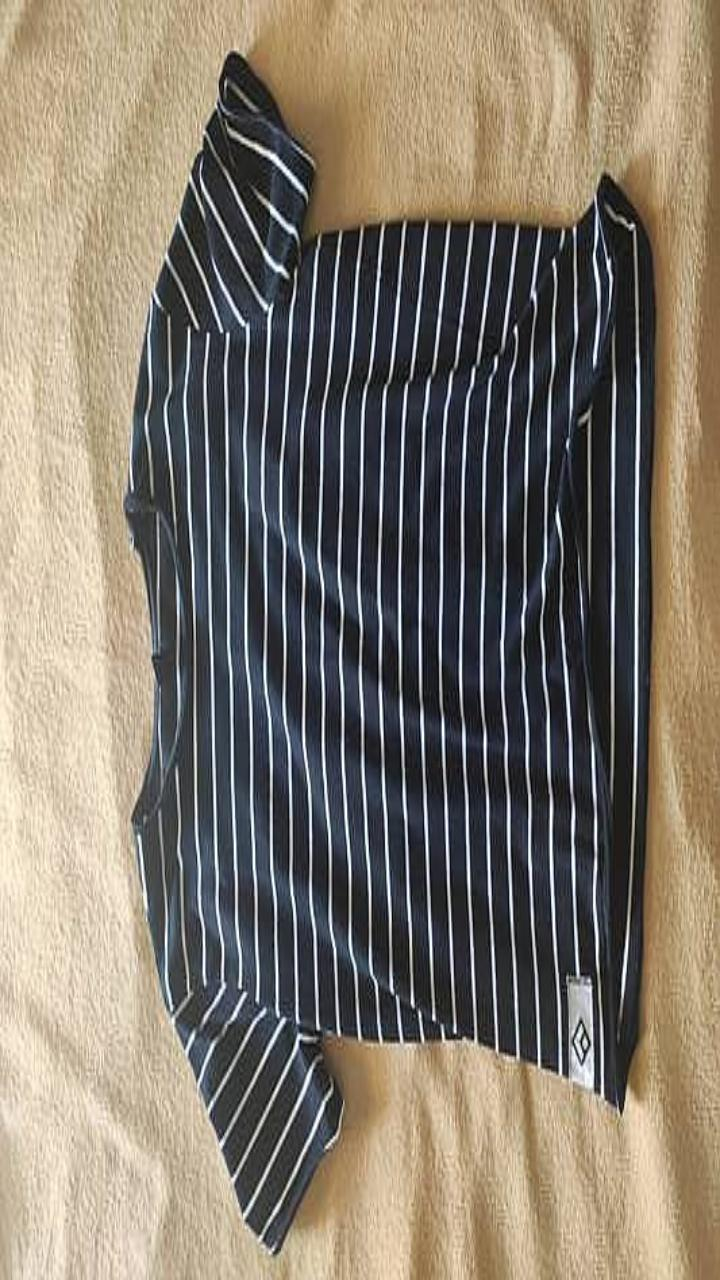T-Shirt: (124, 51, 654, 1251)
